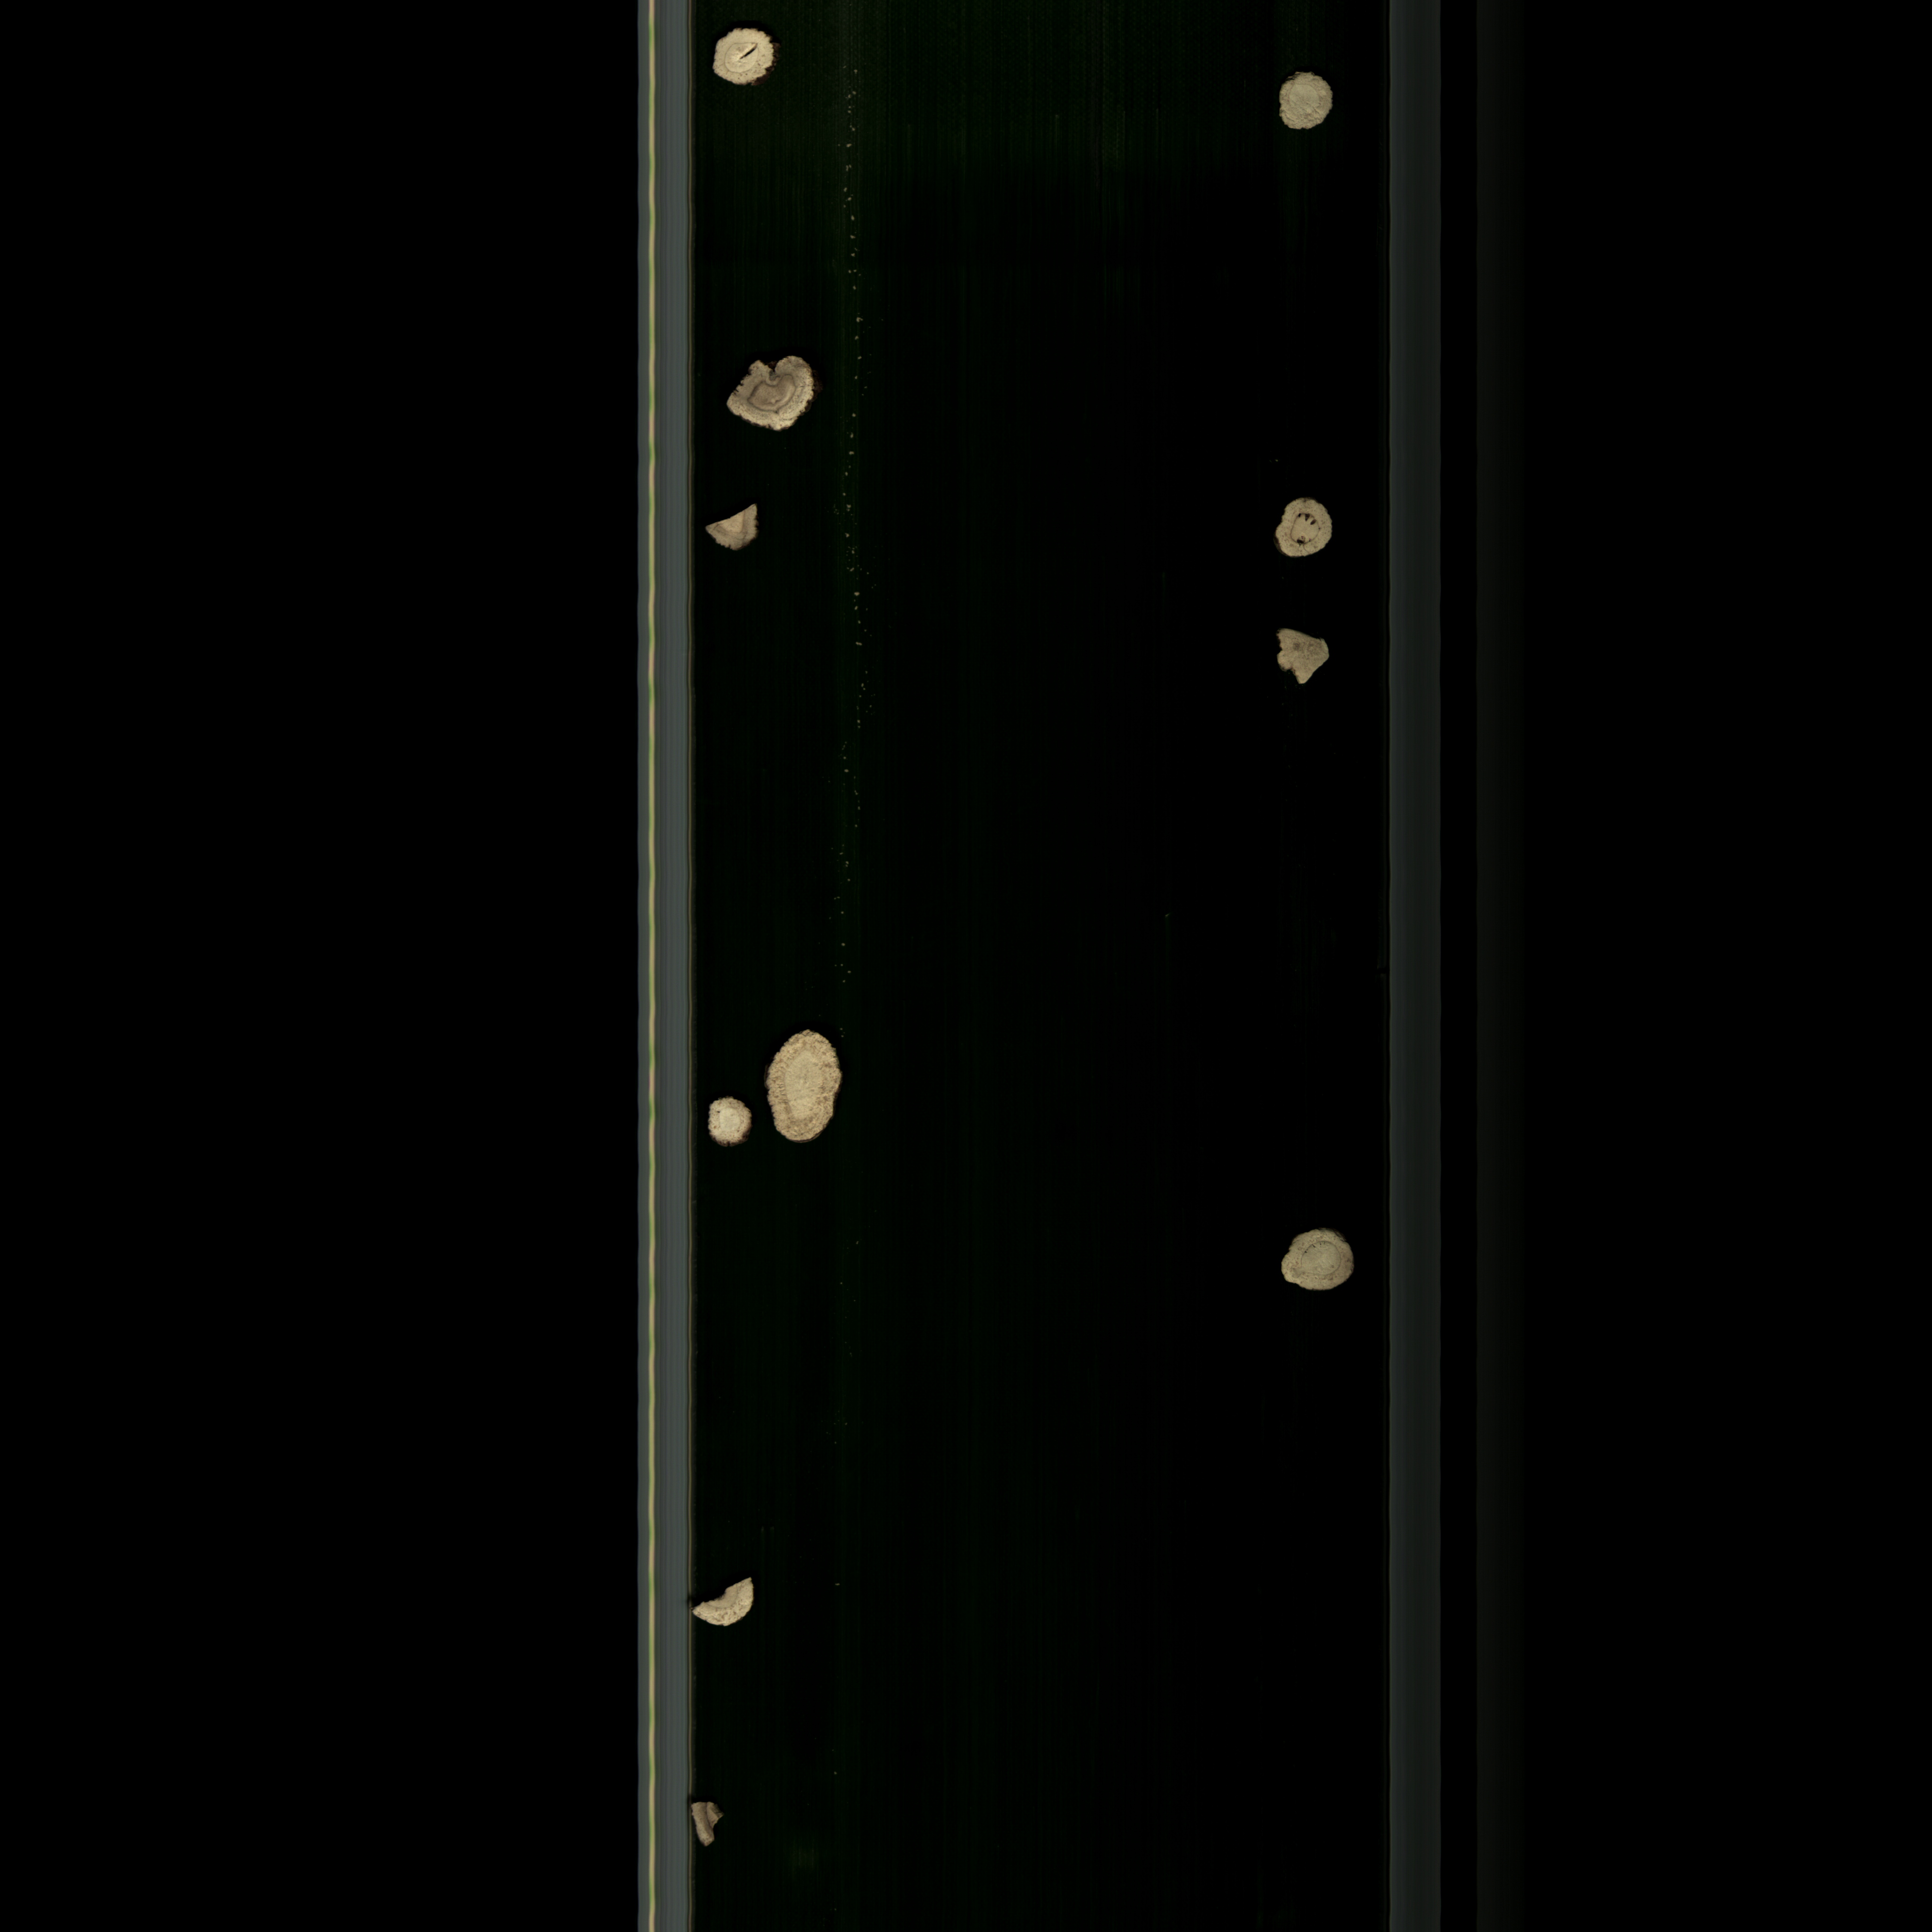debris: (686, 1568, 768, 1645)
distortion: (1261, 1215, 1364, 1313)
dreg: (1269, 617, 1350, 702)
hole: (704, 23, 793, 103), (1269, 492, 1334, 570)
moldy: (757, 1019, 855, 1161), (725, 347, 830, 437), (1267, 58, 1345, 149), (701, 501, 793, 577), (679, 1790, 732, 1858)
